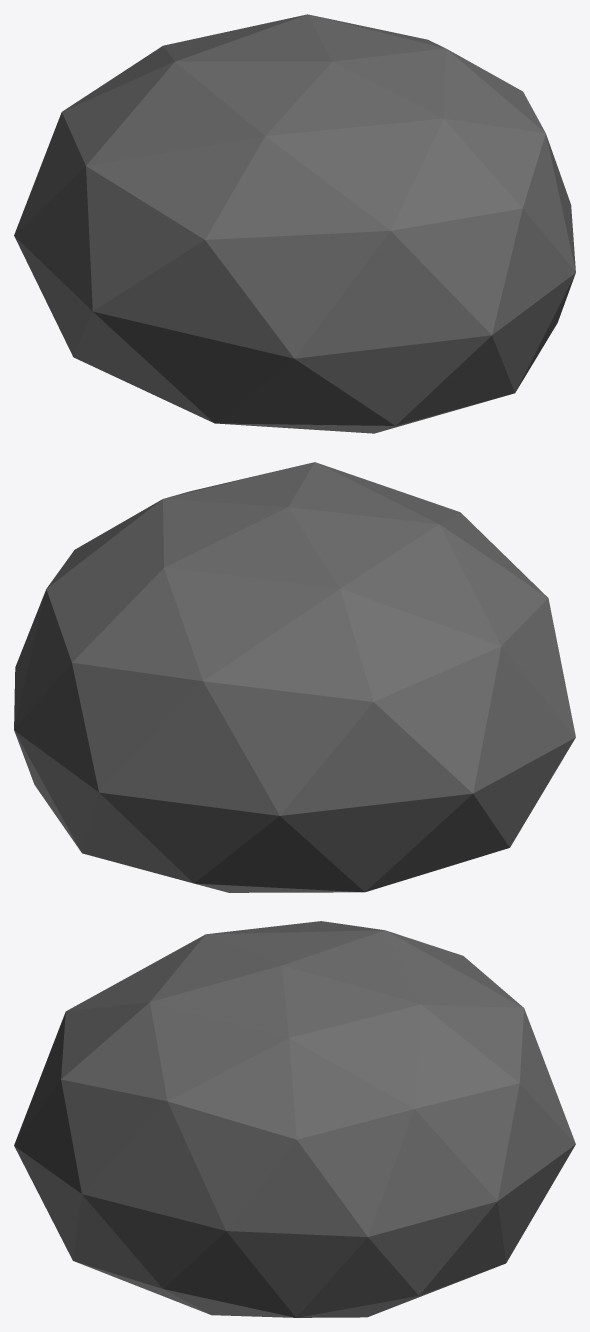
File: small_rock.fbx
3 renders of one model, top to bottom at view 1: azimuth 30°, elevation 25°; view 2: azimuth 150°, elevation 25°; view 3: azimuth 270°, elevation 25°, orthographic. The views are drawn at different scales.
Parts seen in each view (by area): view 1: small_rock; view 2: small_rock; view 3: small_rock.
Part boxes in pixels (<box>): small_rock: <box>14,14,575,433</box>; small_rock: <box>14,462,575,892</box>; small_rock: <box>14,921,575,1317</box>.
Bounding box in the file's own units: 3.91 × 2.52 × 4.14.
